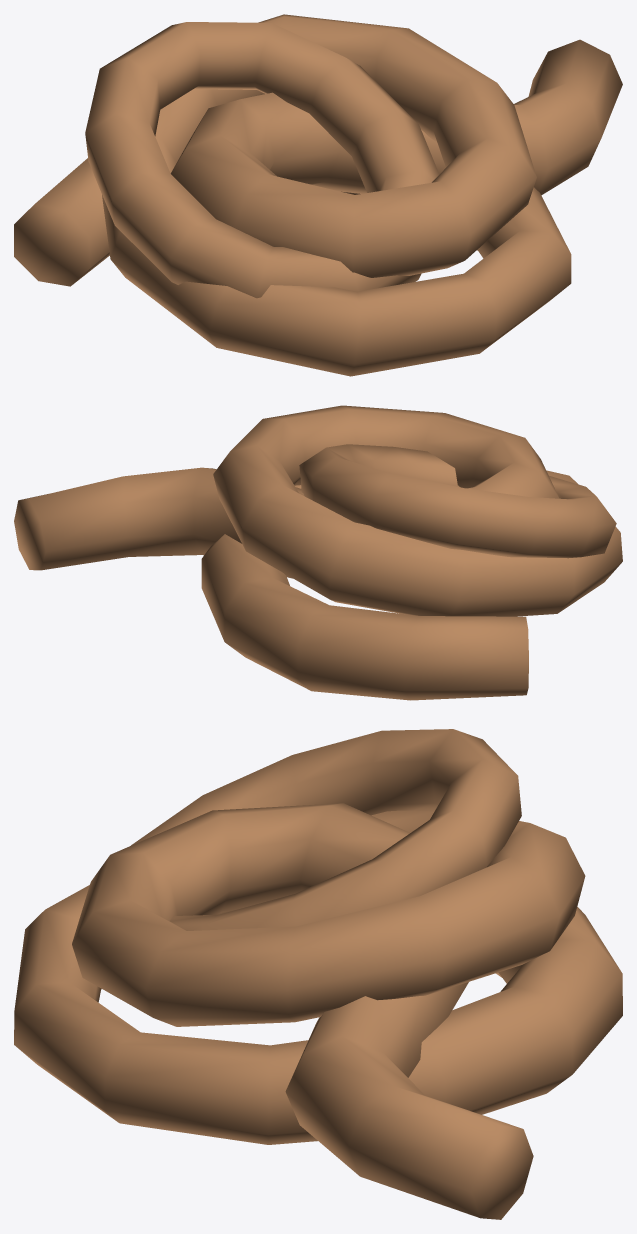
File: SM_CoiledRope.fbx
3 views of the same model, one above another, from view 1: azimuth 30°, elevation 25°; view 2: azimuth 150°, elevation 25°; view 3: azimuth 270°, elevation 25° (orthographic). The views are drawn at different scales.
Visible parts, largest first — view 1: SM_CoiledRope; view 2: SM_CoiledRope; view 3: SM_CoiledRope.
Boxes of the visible parts, x1,y1,x2,y2 form: SM_CoiledRope: (14,14,622,376); SM_CoiledRope: (14,405,622,700); SM_CoiledRope: (14,729,622,1219).
Size of the model in its own units: 0.9072 by 0.3249 by 0.6923.
